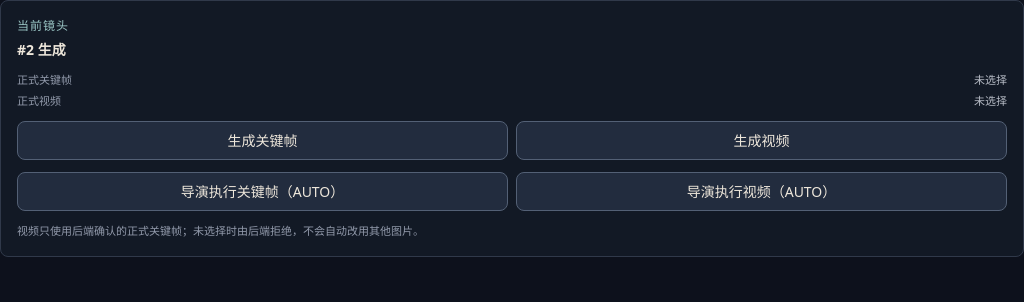
Test: ShotProductionActions › delegates one exact frozen plan to the Director runtime
Step 1. Click the button with test id "delegate-keyframe-to-director" → click(262, 192), box [17,172,508,211]
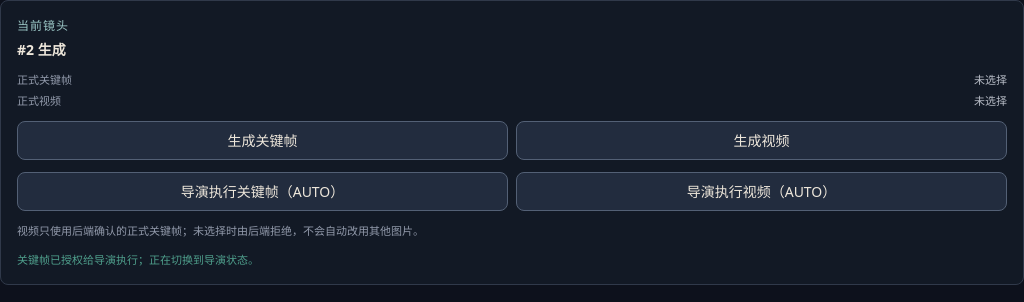
Result: the message with test id "shot-production-status" shows "已授权给导演执行" at [50,252,259,266]
